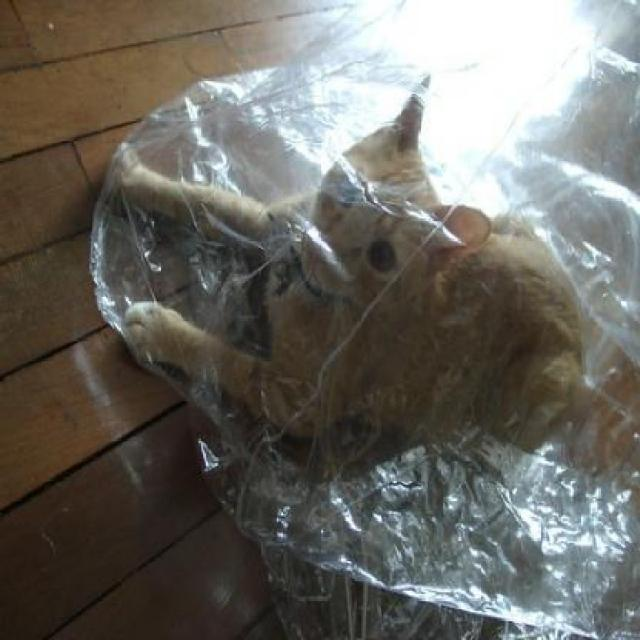plastic bag: (87, 1, 638, 638)
